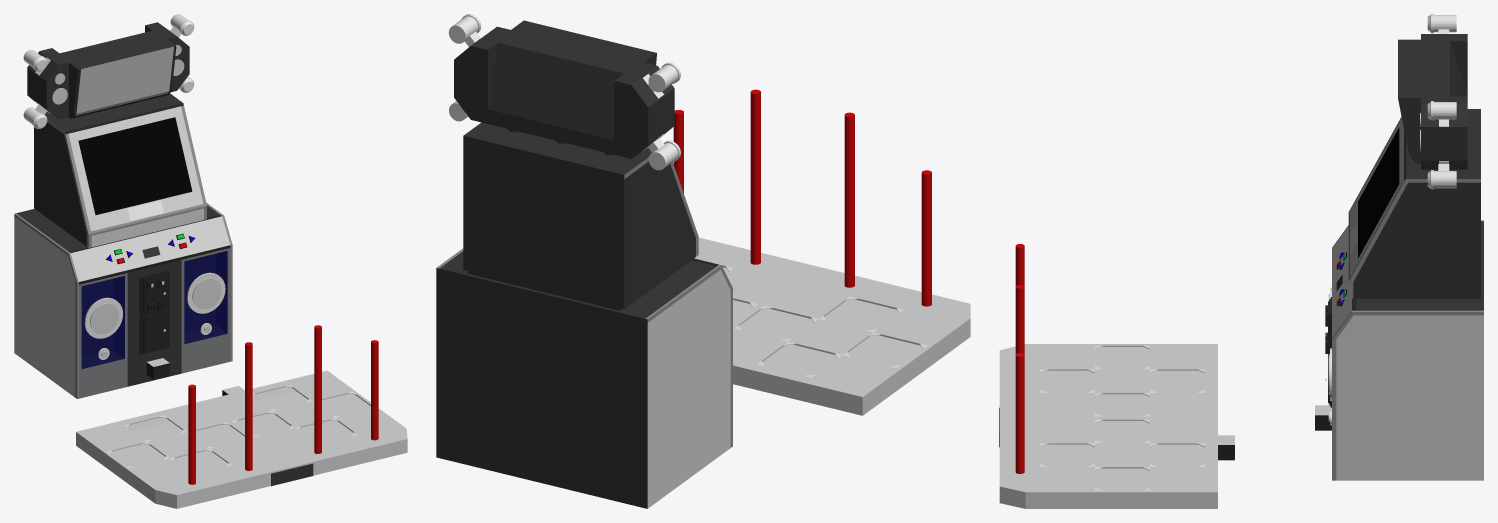
Rendered from itgmachine.dae.
3 renders of one model, left to right at view 1: azimuth 30°, elevation 25°; view 2: azimuth 150°, elevation 25°; view 3: azimuth 270°, elevation 25°, orthographic. The views are drawn at different scales.
Visible parts, largest first — view 1: Body, Body_001, Braun_Tube, Cube_003, DisplayBase, Body_002, Marquee_002, DisplayBase_001, MarqueeHouse, Body_006, Body_005, Body_004 (+43 smaller); view 2: Body, DisplayBase, MarqueeHouse, Body_001, Cube_003, Cube_042, MarqueeHouse_001, Cylinder_005, Cylinder_006, Marquee, Cube_020, Cube_018 (+11 smaller); view 3: CabinetRightPanel, DisplayBase, Cube_003, MarqueeHouse, Cube_041, Braun_Tube, Marquee, Body, MarqueeHouse_001, Body_002, Cube_007, Cube_018 (+21 smaller).
Part boxes in pixels (x1,y1,x2,y2): Body: (16, 205, 227, 386); Body_001: (14, 216, 75, 397); Braun_Tube: (78, 117, 192, 215); Cube_003: (76, 370, 407, 494); DisplayBase: (34, 93, 182, 246); Body_002: (70, 216, 230, 281); Marquee_002: (75, 46, 173, 115); DisplayBase_001: (68, 106, 203, 231); MarqueeHouse: (27, 22, 189, 119); Body_006: (81, 276, 124, 368); Body_005: (184, 251, 227, 343); Body_004: (181, 248, 230, 373); Body: (436, 251, 716, 508); DisplayBase: (463, 122, 695, 309); MarqueeHouse: (454, 26, 674, 158); Body_001: (647, 270, 730, 508); Cube_003: (694, 237, 970, 415); Cube_042: (862, 318, 970, 415); MarqueeHouse_001: (498, 31, 639, 73); Cylinder_005: (844, 112, 854, 287); Cylinder_006: (750, 89, 760, 264); Marquee: (511, 20, 656, 65); Cube_020: (873, 310, 958, 345); Cube_018: (812, 355, 896, 390); CabinetRightPanel: (1336, 315, 1483, 480); DisplayBase: (1353, 109, 1480, 298); Cube_003: (999, 344, 1217, 492); MarqueeHouse: (1421, 34, 1467, 169); Cube_041: (1025, 492, 1217, 508); Braun_Tube: (1358, 127, 1399, 258); Marquee: (1398, 39, 1420, 163); Body: (1336, 221, 1483, 310); MarqueeHouse_001: (1421, 41, 1449, 96); Body_002: (1332, 226, 1351, 337); Cube_007: (1150, 419, 1205, 443); Cube_018: (1150, 345, 1205, 369).
Size of what is drawn, in the model's own units: 6.33 by 8.74 by 7.49.
